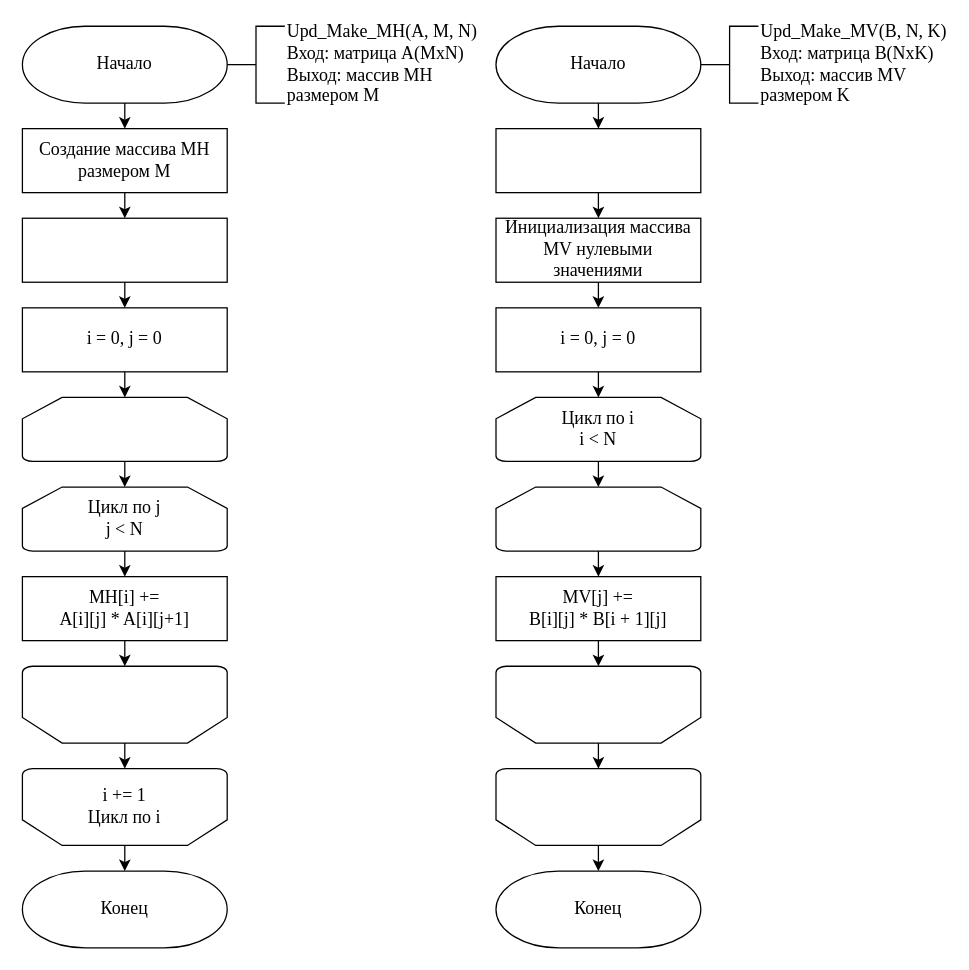
Some shapes in this 969 by 970 pixel diagram are drawn without their labels. The shapes that lost their labels are listed below. From the top down, each one's centre as x and y in pixels, then its label:
At point 598,160: "Создание массива MV размером K".
At point 124,249: "Инициализация массива MH нулевыми значениями".
At point 124,428: "Цикл по i i < M".
At point 598,518: "Цикл по j j < K".
At point 124,704: "j += 2 Цикл по j".
At point 598,704: "j += 1 Цикл по j".
At point 598,806: "i += 2 Цикл по i".
